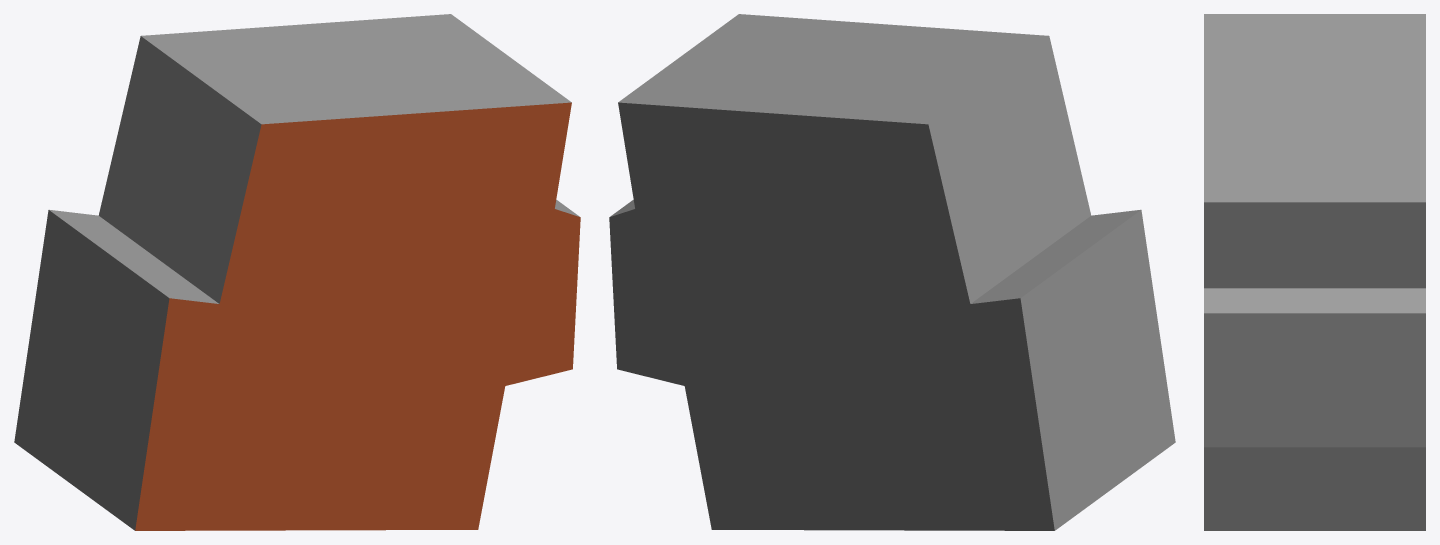
The model's file is construction_7025_assumed_A_Casa_h6m.obj.
3 renders of one model, left to right at view 1: azimuth 30°, elevation 25°; view 2: azimuth 150°, elevation 25°; view 3: azimuth 270°, elevation 25°, orthographic. The views are drawn at different scales.
Visible parts, largest first — view 1: construction_7025_assumed_A_Casa; view 2: construction_7025_assumed_A_Casa; view 3: construction_7025_assumed_A_Casa.
Boxes of the visible parts, x1=… form: construction_7025_assumed_A_Casa: x1=14, y1=14, x2=580, y2=530; construction_7025_assumed_A_Casa: x1=609, y1=14, x2=1175, y2=530; construction_7025_assumed_A_Casa: x1=1204, y1=14, x2=1425, y2=530.
Bounding box in the file's own units: 12.76 × 12.55 × 6.
